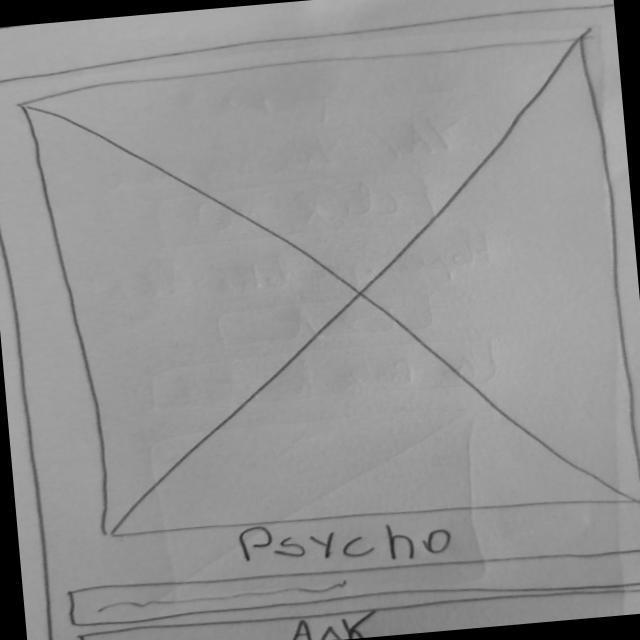button: (70, 581, 640, 640)
container: (1, 1, 640, 640)
image: (31, 34, 640, 545)
input: (62, 535, 640, 633)
label: (221, 508, 472, 577)
